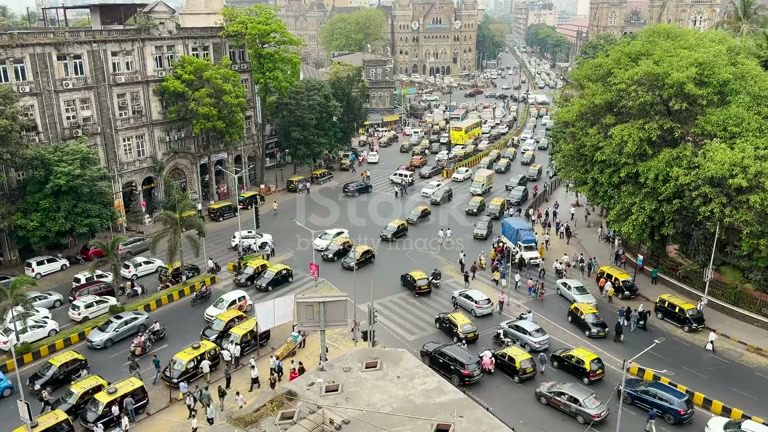bus: (499, 215, 542, 267), (449, 114, 483, 147)
car: (73, 375, 150, 431), (534, 379, 611, 426), (620, 378, 695, 426), (27, 349, 89, 402), (40, 371, 111, 415), (160, 338, 223, 386), (420, 341, 484, 387), (85, 309, 151, 350), (653, 292, 706, 332), (498, 317, 551, 356), (203, 288, 256, 327), (553, 345, 605, 384), (491, 342, 538, 384), (566, 302, 609, 339), (434, 310, 480, 344), (554, 278, 599, 312), (68, 295, 118, 323), (451, 287, 496, 317), (128, 321, 167, 355), (228, 229, 275, 256), (252, 264, 294, 293), (23, 255, 71, 279), (120, 256, 167, 280), (555, 278, 598, 304), (313, 228, 353, 254), (341, 244, 375, 271), (400, 268, 432, 296), (423, 180, 454, 205), (380, 218, 409, 240), (472, 216, 494, 241), (342, 179, 372, 197), (464, 194, 486, 216), (0, 370, 14, 398), (452, 167, 472, 183)
truck: (500, 216, 543, 266)
